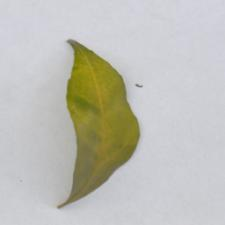Greening: (51, 30, 158, 195)
